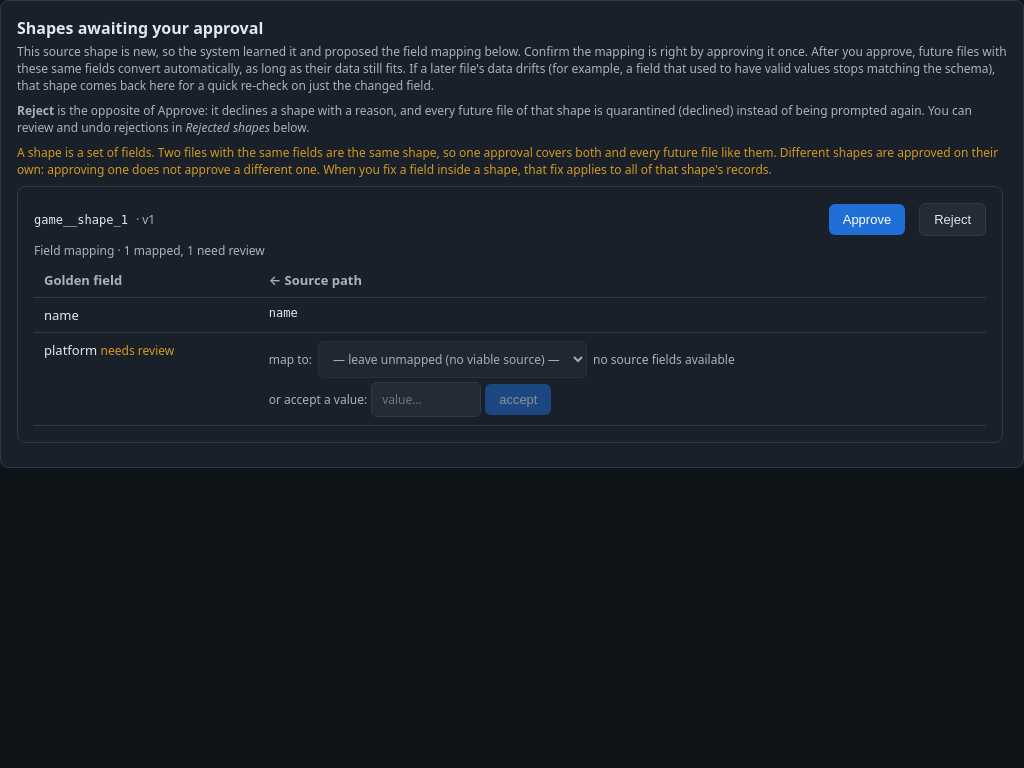
ApprovalCards reject flow › wrong_mapping requires at least one checked field
The width and height of the screenshot is (1024, 768).
Click the button "Reject". click: (953, 220)
box: [919,203,986,236]
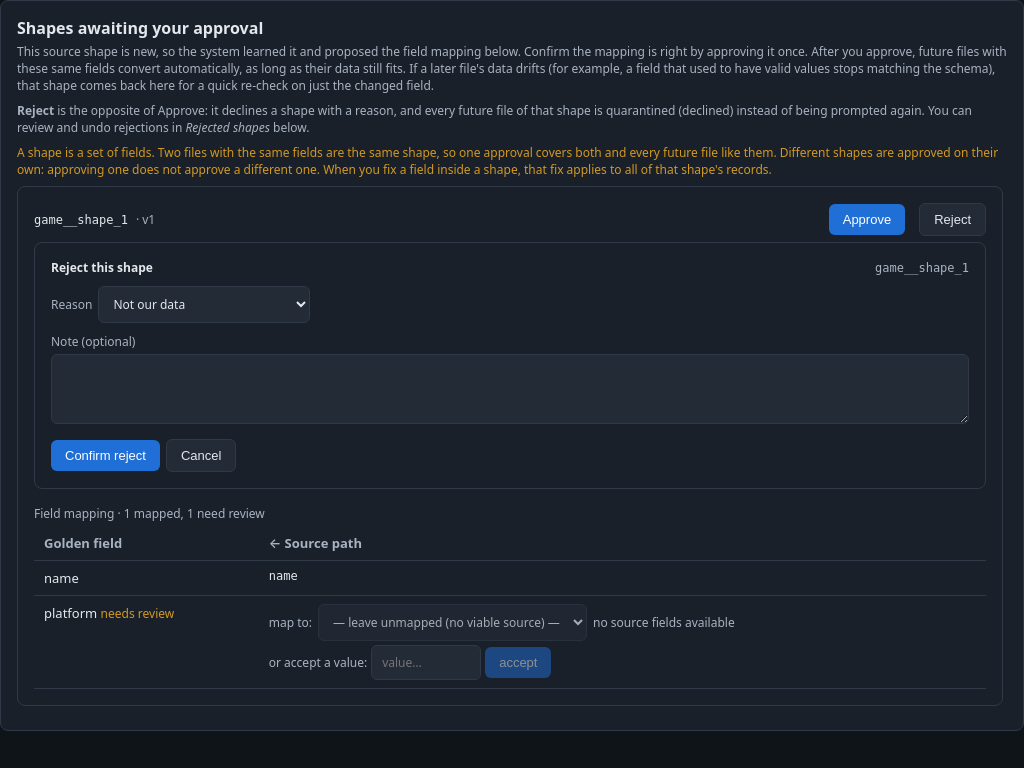
Select "Wrong field mapping" in the dropdown labelled "Reason". click: (204, 304)
box: [98,286,310,323]
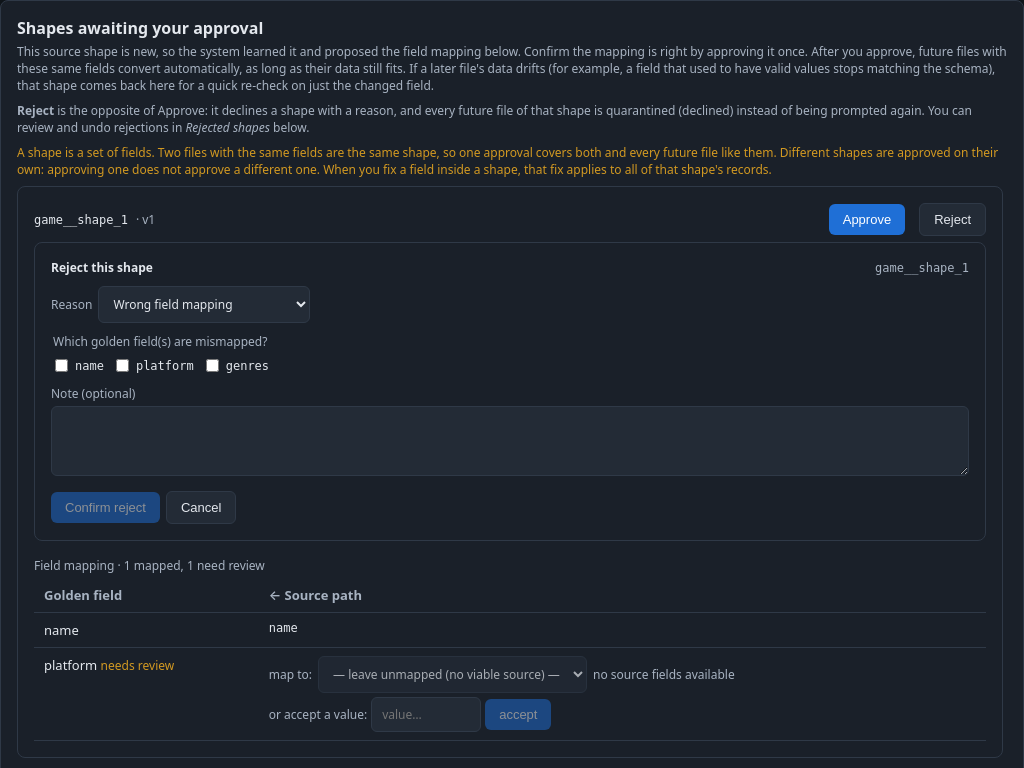
Expected: the button "Confirm reject" is disabled, [51,492,160,523]
// the field picker sources the FULL golden-field list from getValueVocab
Click the checkbox named "mismapped field genres". click: (212, 366)
box: [206,359,219,372]
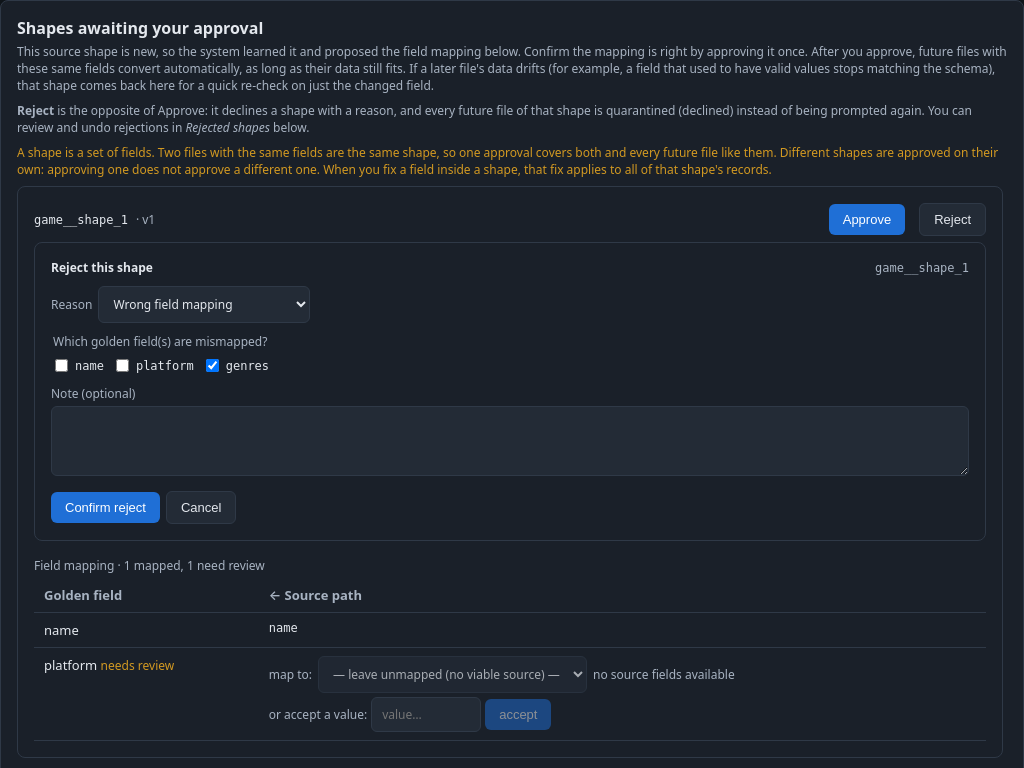
Expected: the button "Confirm reject" is enabled, [51,492,160,523]
